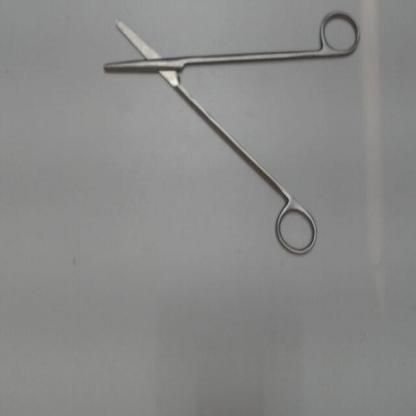9 Metzenbaum Scissors: (104, 3, 365, 258)
